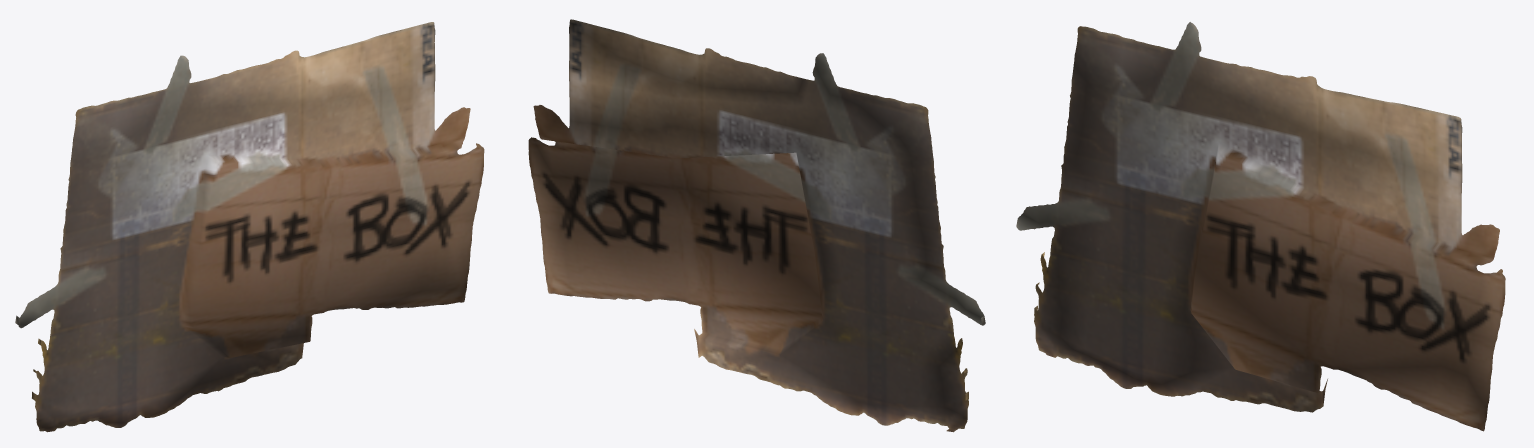
Rendered from storefront_sign.fbx.
3 renders of one model, left to right at view 1: azimuth 30°, elevation 25°; view 2: azimuth 150°, elevation 25°; view 3: azimuth 330°, elevation 25°, orthographic. The views are drawn at different scales.
Parts seen in each view (by area): view 1: storefront_sign; view 2: storefront_sign; view 3: storefront_sign.
Part boxes in pixels (bbox=[...]): storefront_sign: bbox=[15, 22, 484, 432]; storefront_sign: bbox=[528, 19, 985, 432]; storefront_sign: bbox=[1016, 22, 1505, 431].
Size of the model in its own units: 64.9 by 48.27 by 1.84.
1 material, 1 textured.
